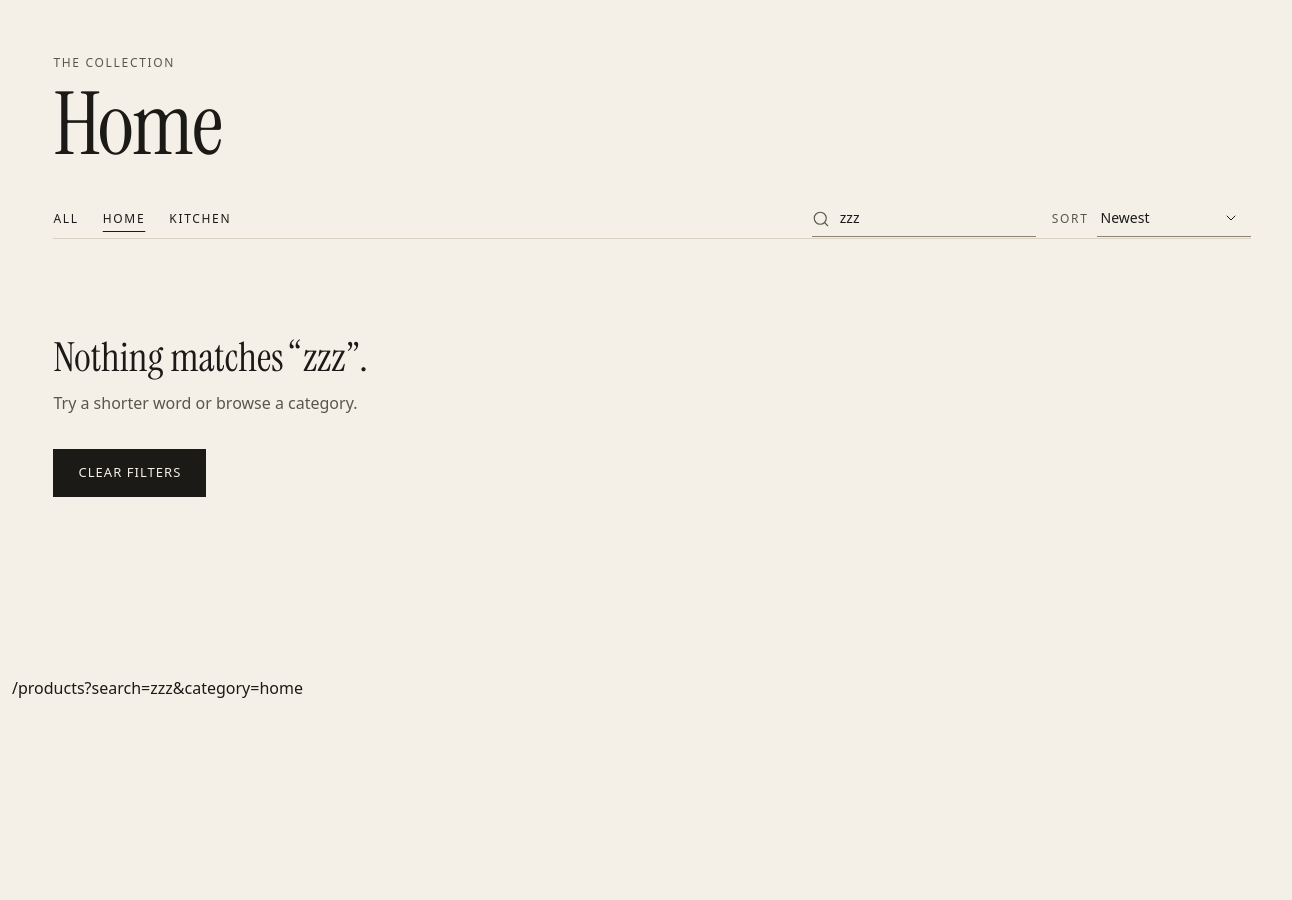
ProductsPage › says what did not match and offers to clear the filters, which returns to the full collection
Expected: the heading "Nothing matches “zzz”." is shown, [53,331,368,383]
Click the link "Clear filters": (130, 473) [53,449,206,497]
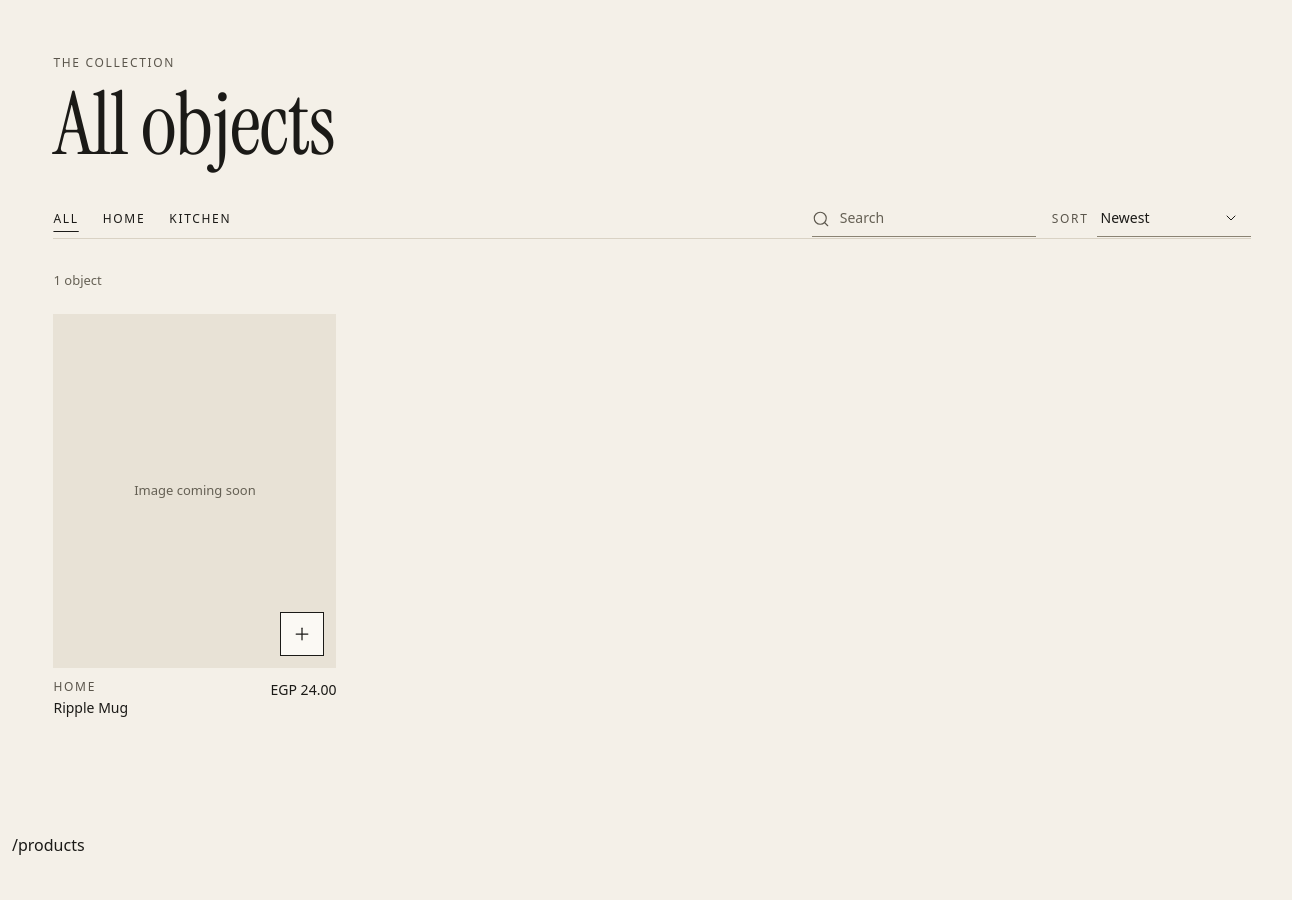
Expected: the link "Ripple Mug" is shown, [53,698,128,718]
Expected: the text named "current url" reads "/products", [12,834,85,856]
